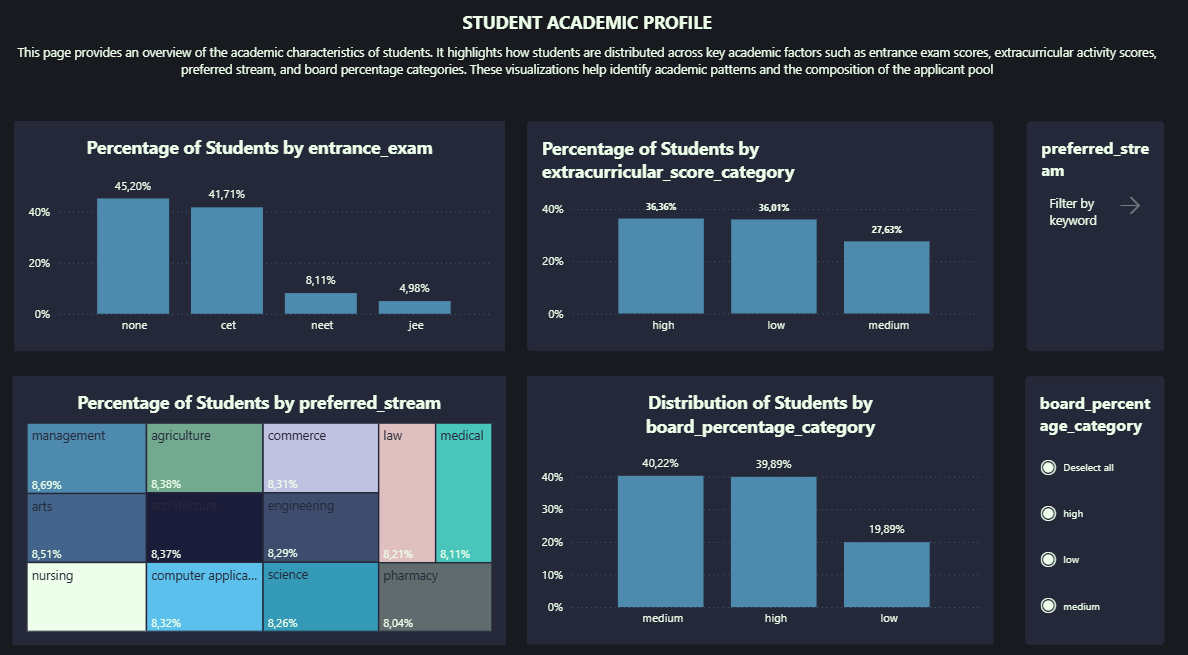

What the dashboard file says about the page in this screenshot:
{"tool":"powerbi","page":{"name":"Student academics","canvas":[1280,720],"ordinal":1},"visuals":[{"type":"listSlicer","fields":{"Values":["College_Admission_Clean.board_percentage_category"]},"box":[1107.1,407.5,148.2,285.5],"z":3500},{"type":"columnChart","title":"Distribution of  Students by board_percentage_category","fields":{"Y":["College_Admission_Clean.Total Students"],"Category":["College_Admission_Clean.board_percentage_category"]},"box":[579,407.2,494.7,284.7],"z":9125},{"type":"treemap","title":"Percentage of  Students by preferred_stream","fields":{"Group":["College_Admission_Clean.preferred_stream"],"Values":["Divide(College_Admission_Clean.Total Students, ScopedEval(College_Admission_Clean.Total Students, []))"]},"box":[32.7,407.5,523,285.5],"z":9250},{"type":"textSlicer","fields":{"Values":["College_Admission_Clean.preferred_stream"]},"box":[1109.3,137.3,146,244.1],"z":10000},{"type":"clusteredColumnChart","title":"Percentage of  Students by extracurricular_score_category","fields":{"Y":["College_Admission_Clean.Total Students"],"Category":["College_Admission_Clean.extracurricular_score_category"]},"box":[579.7,137.3,494.7,244.1],"z":11062},{"type":"columnChart","title":"Percentage of  Students by entrance_exam","fields":{"Y":["College_Admission_Clean.Total Students"],"Category":["College_Admission_Clean.entrance_exam"]},"box":[34.9,137.3,520.9,244.1],"z":11125},{"type":"textbox","box":[31.4,54.1,1221.8,55.9],"z":11500},{"type":"textbox","box":[31.7,18.3,1221.7,35],"z":12000}]}

Visuals, with their boxes in screenshot pixels (x1, y1, x2, y2), scaled from the page's 1280x720 canvas onto the 1188x655 screenshot:
listSlicer - College_Admission_Clean.board_percentage_category: box(1028, 371, 1165, 630)
"Distribution of  Students by board_percentage_category" columnChart: box(537, 370, 997, 629)
"Percentage of  Students by preferred_stream" treemap: box(30, 371, 516, 630)
textSlicer - College_Admission_Clean.preferred_stream: box(1030, 125, 1165, 347)
"Percentage of  Students by extracurricular_score_category" clusteredColumnChart: box(538, 125, 997, 347)
"Percentage of  Students by entrance_exam" columnChart: box(32, 125, 516, 347)
textbox: box(29, 49, 1163, 100)
textbox: box(29, 17, 1163, 48)
